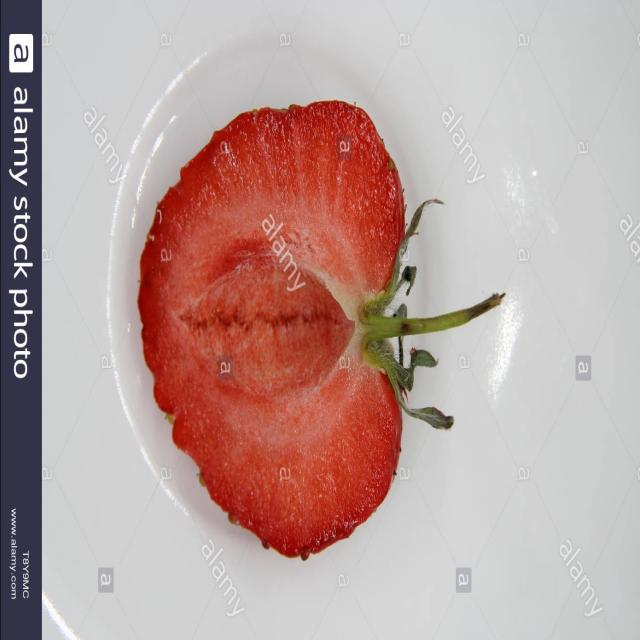strawberry: (124, 67, 496, 573)
